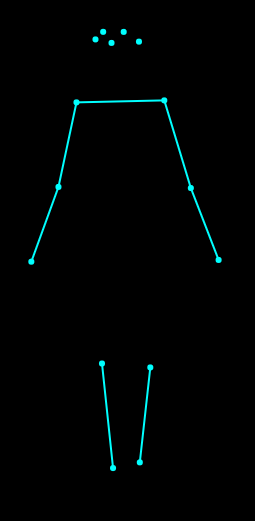mountain: (24, 19, 226, 478)
